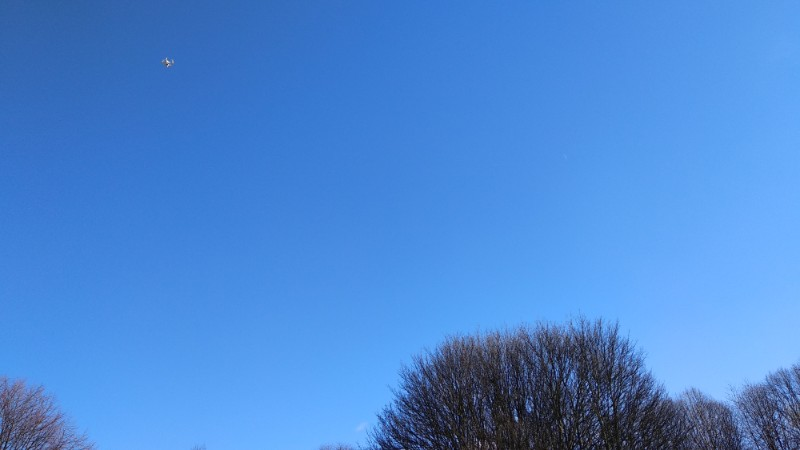drone: (159, 54, 174, 68)
